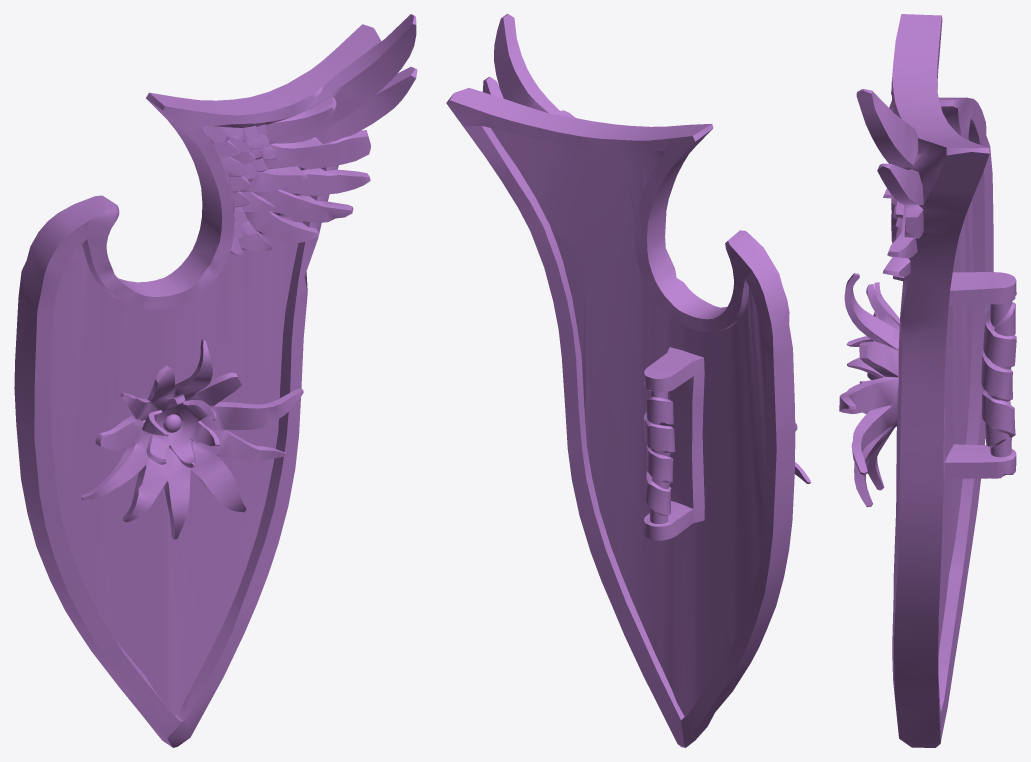
File: SM_Rune_Shield_1.fbx
3 renders of one model, left to right at view 1: azimuth 30°, elevation 25°; view 2: azimuth 150°, elevation 25°; view 3: azimuth 270°, elevation 25°, orthographic. The views are drawn at different scales.
Parts seen in each view (by area): view 1: SM_Rune_Shield_1; view 2: SM_Rune_Shield_1; view 3: SM_Rune_Shield_1.
Part boxes in pixels (x1,y1,x2,y2): SM_Rune_Shield_1: (14,14,417,747); SM_Rune_Shield_1: (446,14,810,747); SM_Rune_Shield_1: (839,14,1016,747).
Bounding box in the file's own units: 0.5916 × 1.11 × 0.2294.
